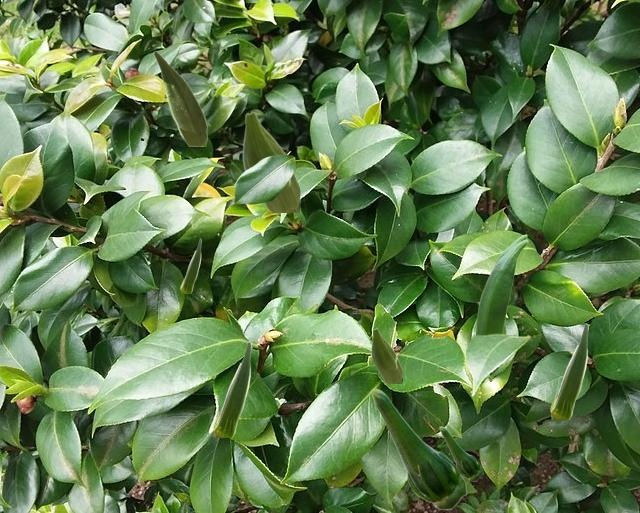okra: (370, 388, 466, 509), (242, 111, 299, 211), (153, 50, 206, 145), (475, 239, 527, 333), (550, 323, 587, 418), (213, 341, 250, 436), (494, 234, 526, 332), (439, 426, 482, 480), (371, 328, 401, 382), (180, 238, 200, 292)
